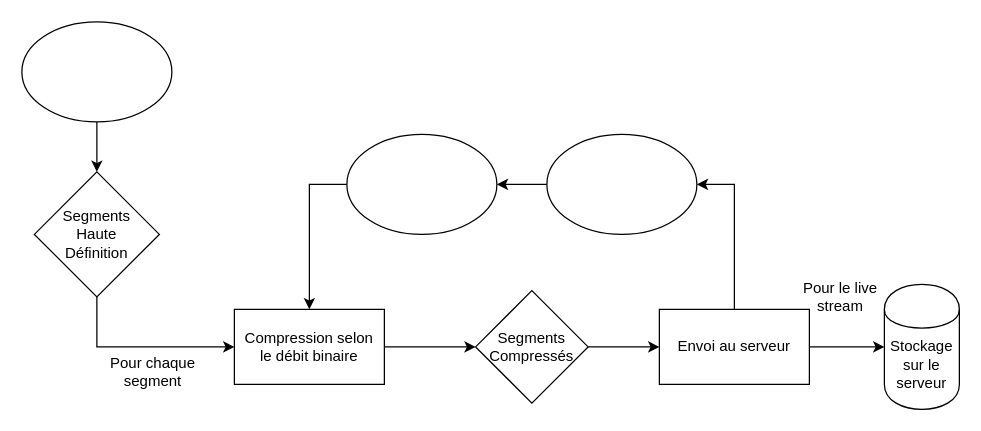
The diagram is 981 pixels wide and 431 high, and some of its shapes have lost their labels. The centre of each missing label's shape, as x and y in pixels:
Calcul du débit binaire: the point at 421,183
Camera: the point at 96,71
Mesure du temps de transfert: the point at 621,183
